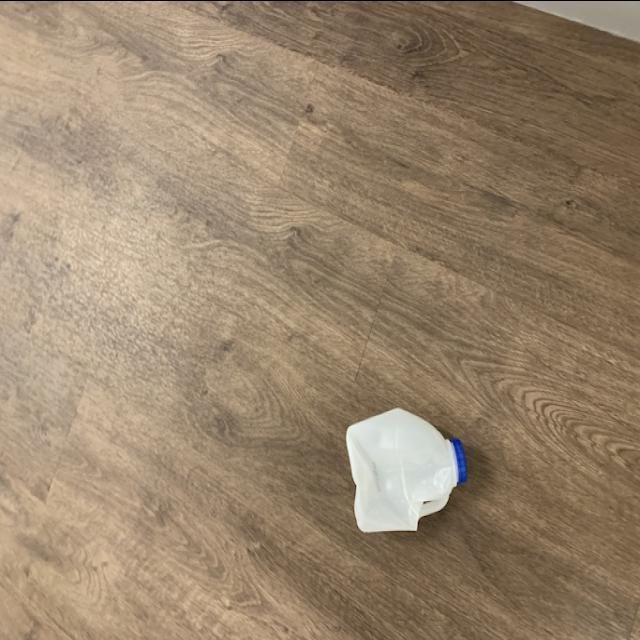litter: (343, 402, 474, 546)
